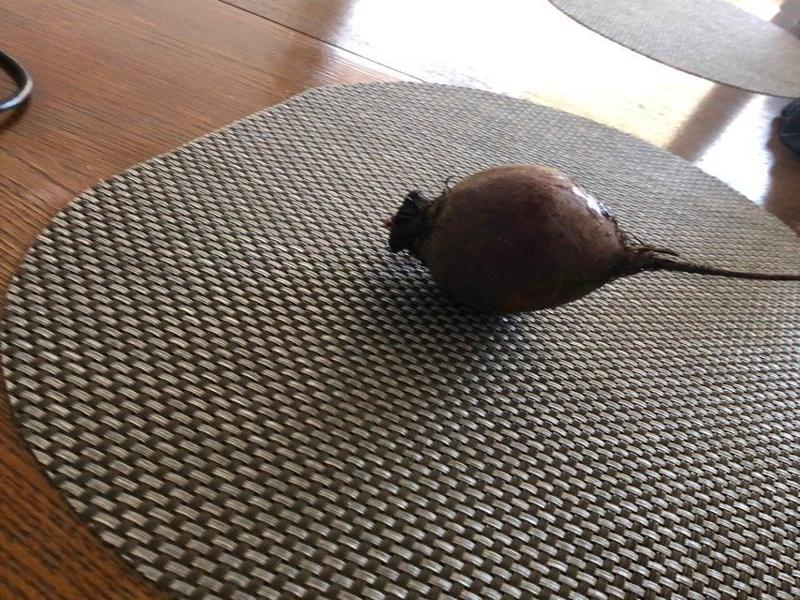Beet: (388, 165, 795, 310)
